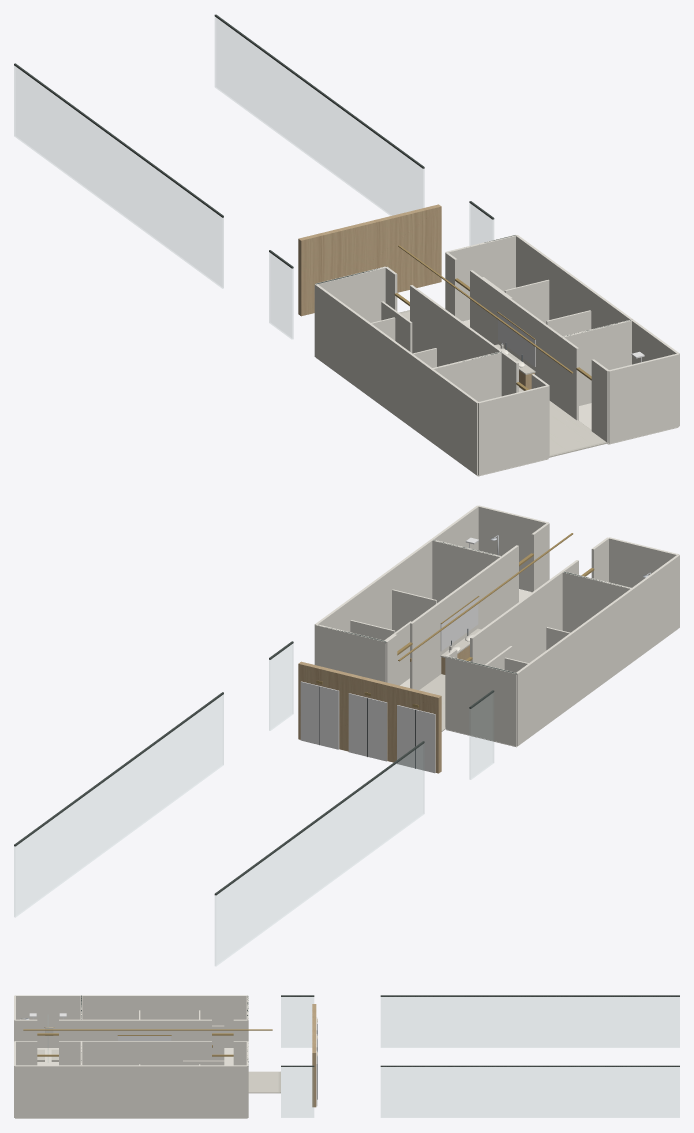
File: service-core.glb
The picture shows the model from 3 angles, top to bottom: view 1: azimuth 30°, elevation 25°; view 2: azimuth 150°, elevation 25°; view 3: azimuth 270°, elevation 25°; orthographic projection. The views are drawn at different scales.
Parts seen in each view (by area): view 1: Mesh_7.046, Mesh_7.050, Mesh_38.024, Mesh_0.098, Mesh_0.132, Mesh_0.126, Mesh_0.115, Mesh_0.111, Mesh_0.102, Mesh_0.124, Mesh_0.112, Mesh_0.113 (+16 smaller); view 2: Mesh_7.046, Mesh_7.050, Mesh_0.098, Mesh_0.099, Mesh_0.115, Mesh_38.024, Mesh_0.102, Mesh_0.111, Mesh_0.124, Mesh_0.112, Mesh_0.132, Mesh_0.100 (+15 smaller); view 3: Mesh_7.046, Mesh_7.050, Mesh_0.111, Mesh_0.098, Mesh_0.130, Mesh_0.115, Mesh_0.102, Mesh_0.124, Mesh_7.051, Mesh_7.047, Mesh_42.013, Mesh_4.185 (+12 smaller).
Boxes of the visible parts, x1=… form: Mesh_7.046: x1=14, y1=66, x2=223, y2=288; Mesh_7.050: x1=215, y1=17, x2=424, y2=215; Mesh_38.024: x1=298, y1=204, x2=441, y2=316; Mesh_0.098: x1=314, y1=284, x2=432, y2=441; Mesh_0.132: x1=608, y1=353, x2=679, y2=443; Mesh_0.126: x1=478, y1=385, x2=548, y2=475; Mesh_0.115: x1=470, y1=270, x2=562, y2=408; Mesh_0.111: x1=515, y1=235, x2=632, y2=329; Mesh_0.102: x1=410, y1=285, x2=502, y2=366; Mesh_0.124: x1=430, y1=369, x2=478, y2=475; Mesh_0.112: x1=446, y1=234, x2=516, y2=321; Mesh_0.113: x1=562, y1=320, x2=632, y2=405; Mesh_7.046: x1=215, y1=744, x2=424, y2=965; Mesh_7.050: x1=14, y1=695, x2=223, y2=917; Mesh_0.098: x1=516, y1=589, x2=633, y2=746; Mesh_0.099: x1=445, y1=656, x2=516, y2=746; Mesh_0.115: x1=410, y1=557, x2=503, y2=690; Mesh_38.024: x1=298, y1=661, x2=441, y2=773; Mesh_0.102: x1=470, y1=571, x2=562, y2=664; Mesh_0.111: x1=314, y1=539, x2=432, y2=664; Mesh_0.124: x1=632, y1=554, x2=679, y2=660; Mesh_0.112: x1=315, y1=624, x2=386, y2=682; Mesh_0.132: x1=478, y1=505, x2=548, y2=591; Mesh_0.100: x1=562, y1=571, x2=632, y2=632; Mesh_7.046: x1=381, y1=997, x2=679, y2=1047; Mesh_7.050: x1=381, y1=1067, x2=679, y2=1117; Mesh_0.111: x1=81, y1=1065, x2=247, y2=1118; Mesh_0.098: x1=81, y1=995, x2=247, y2=1047; Mesh_0.130: x1=15, y1=1065, x2=81, y2=1118; Mesh_0.115: x1=81, y1=1041, x2=211, y2=1065; Mesh_0.102: x1=81, y1=1019, x2=211, y2=1040; Mesh_0.124: x1=15, y1=995, x2=80, y2=1047; Mesh_7.051: x1=281, y1=1067, x2=313, y2=1117; Mesh_7.047: x1=281, y1=997, x2=313, y2=1047; Mesh_42.013: x1=248, y1=1071, x2=280, y2=1093; Mesh_4.185: x1=380, y1=995, x2=679, y2=996.
Bounding box in the file's own units: 10.12 × 3.66 × 40.06.
Materials: 12 (3 with a texture image).
